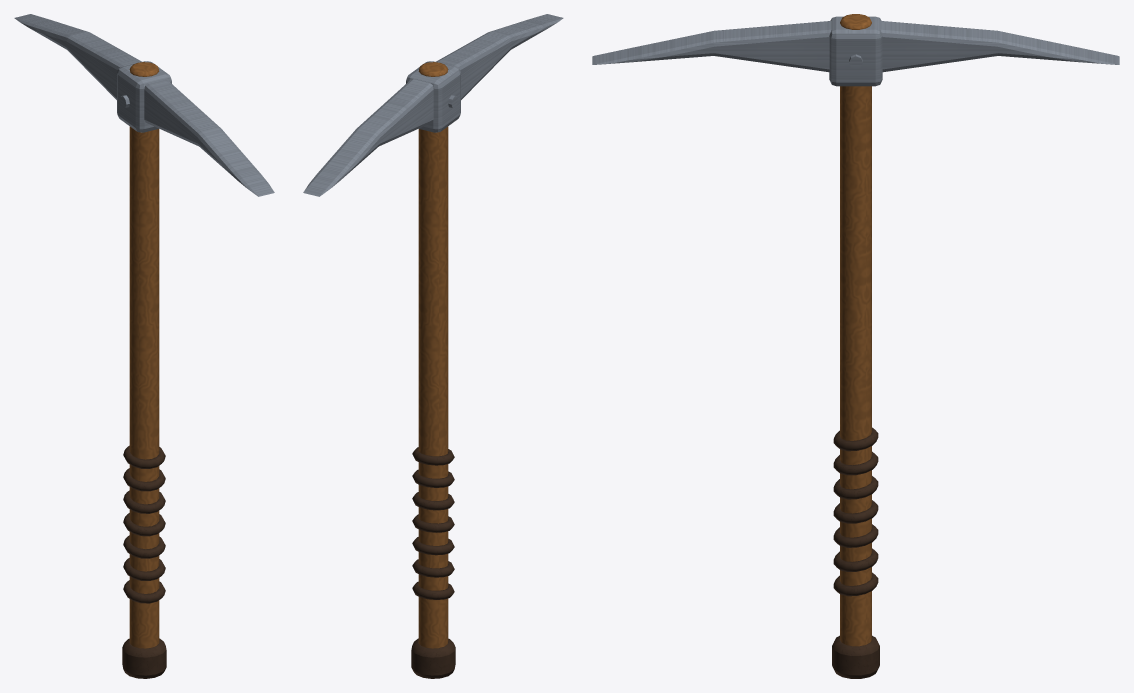
File: pickaxe_iron_pick.glb
3 renders of one model, left to right at view 1: azimuth 30°, elevation 25°; view 2: azimuth 150°, elevation 25°; view 3: azimuth 270°, elevation 25°, orthographic. The views are drawn at different scales.
Visible parts, largest first — view 1: pickaxe_iron_pick; view 2: pickaxe_iron_pick; view 3: pickaxe_iron_pick.
Part boxes in pixels (x1,y1,x2,y2): pickaxe_iron_pick: (14,14,274,678); pickaxe_iron_pick: (303,14,563,678); pickaxe_iron_pick: (592,14,1119,678).
Size of the model in its own units: 0.06 by 0.81 by 0.5931.
3 materials, 3 textured.
